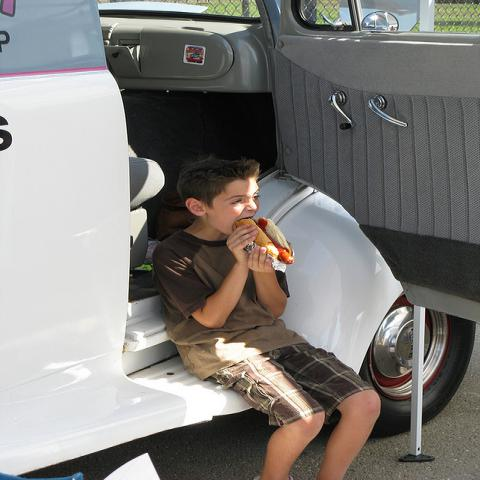truck: (0, 0, 479, 475)
